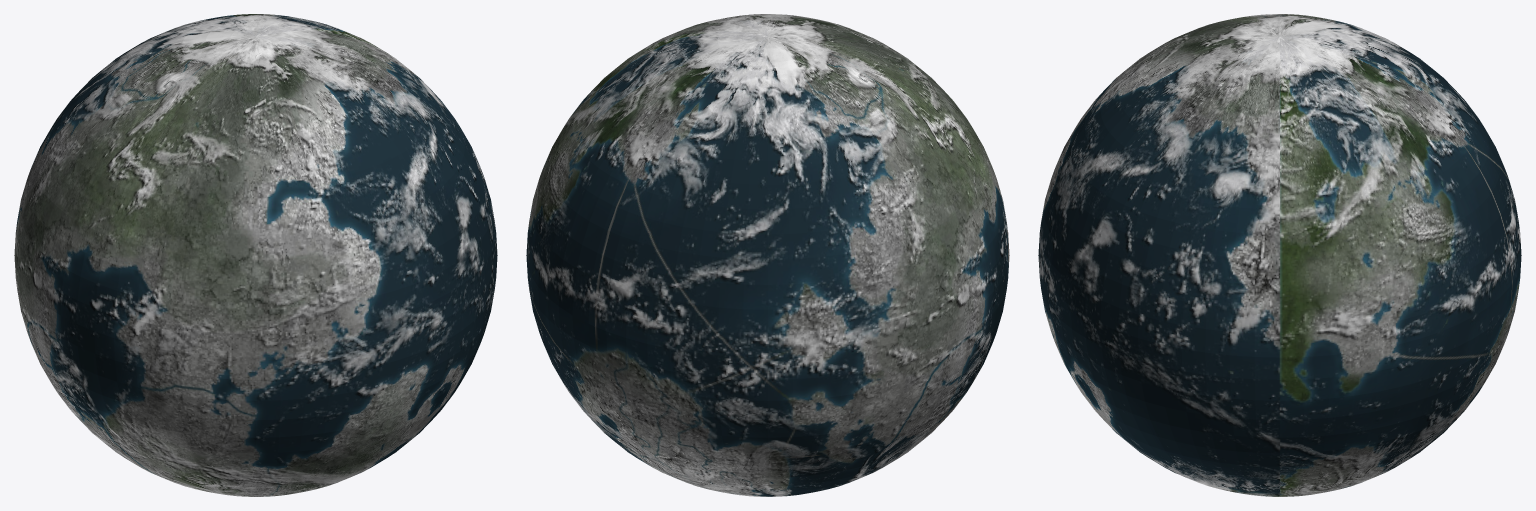
File: Earth2.fbx
3 views of the same model, side by side, from view 1: azimuth 30°, elevation 25°; view 2: azimuth 150°, elevation 25°; view 3: azimuth 270°, elevation 25° (orthographic).
Parts seen in each view (by area): view 1: EarthLike2; view 2: EarthLike2; view 3: EarthLike2.
Part boxes in pixels (bbox=[...]): EarthLike2: bbox=[14, 14, 497, 496]; EarthLike2: bbox=[526, 14, 1009, 496]; EarthLike2: bbox=[1038, 14, 1521, 496].
Size of the model in its own units: 2202 by 2202 by 2202.
Materials: 1 (1 with a texture image).
